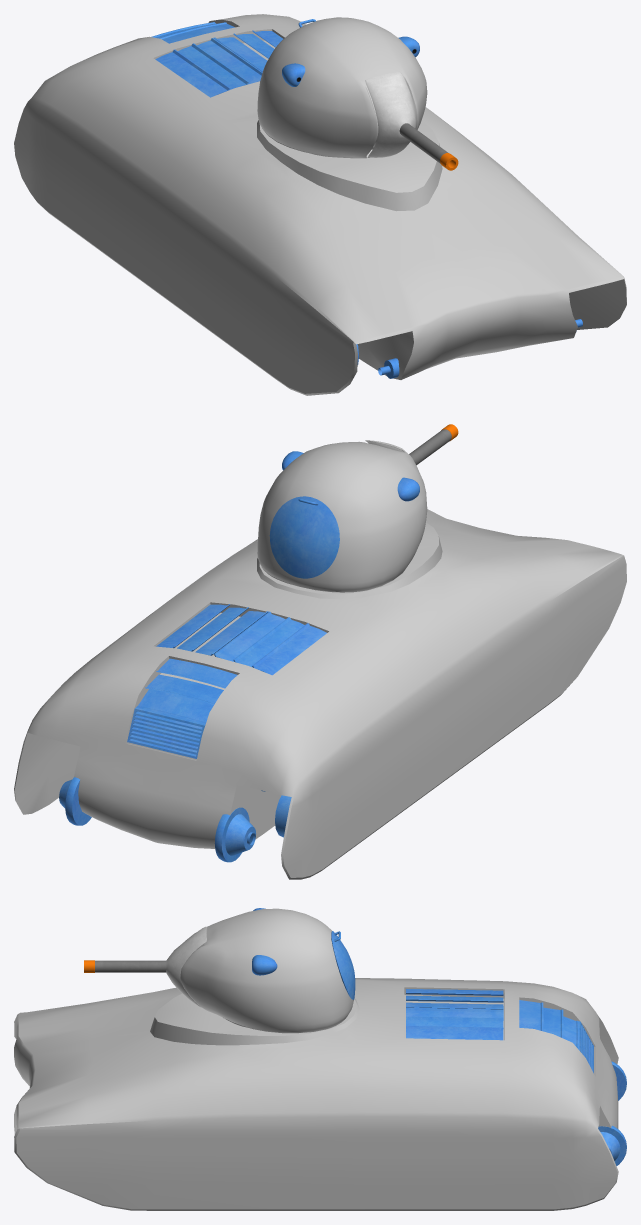
Rendered from AMX-40_Body.fbx.
3 views of the same model, one above another, from view 1: azimuth 30°, elevation 25°; view 2: azimuth 150°, elevation 25°; view 3: azimuth 270°, elevation 25° (orthographic). The views are drawn at different scales.
Visible parts, largest first — view 1: Body, Head, Bidy_Sub, Gun_Shield, Gun; view 2: Body, Head, Bidy_Sub, Gun; view 3: Body, Head, Bidy_Sub, Gun_Shield, Gun.
Part boxes in pixels (bbox=[...]): Body: bbox=[14, 14, 626, 395]; Head: bbox=[257, 17, 427, 158]; Bidy_Sub: bbox=[151, 22, 582, 378]; Gun_Shield: bbox=[365, 71, 416, 157]; Gun: bbox=[399, 123, 458, 170]; Body: bbox=[14, 509, 626, 879]; Head: bbox=[257, 441, 427, 592]; Bidy_Sub: bbox=[59, 604, 326, 862]; Gun: bbox=[409, 424, 458, 465]; Body: bbox=[14, 978, 618, 1210]; Head: bbox=[180, 908, 355, 1033]; Bidy_Sub: bbox=[406, 989, 626, 1165]; Gun_Shield: bbox=[166, 926, 206, 1006]; Gun: bbox=[84, 960, 166, 972].
Bounding box in the file's own units: 251 × 279 × 547.
